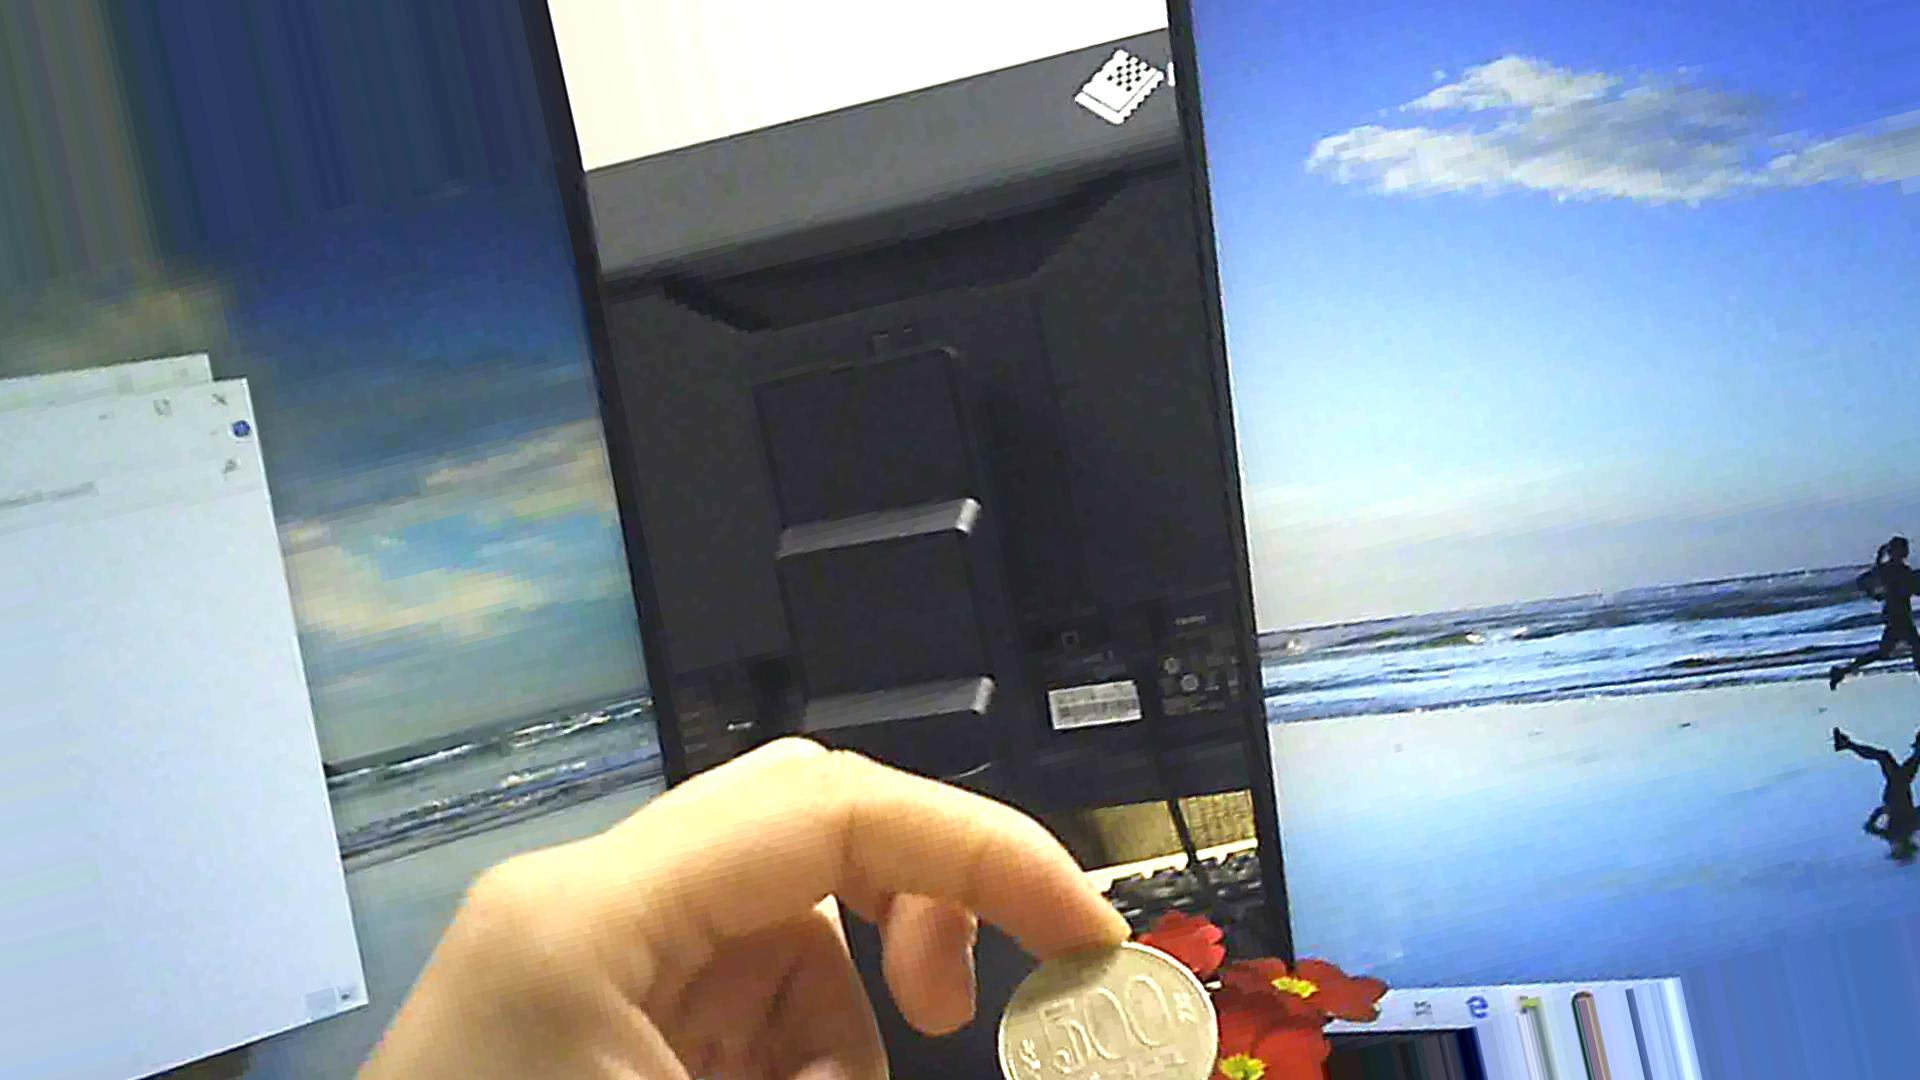500 Yen: (978, 932, 1242, 1079)
